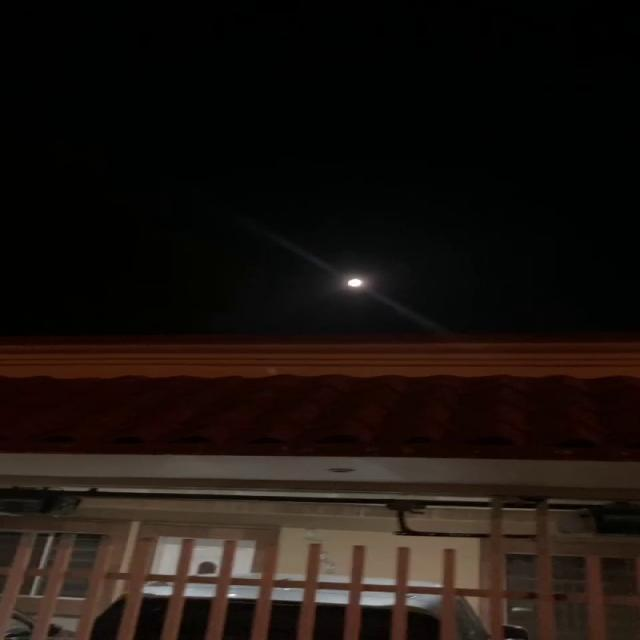moon: (343, 273, 371, 292)
